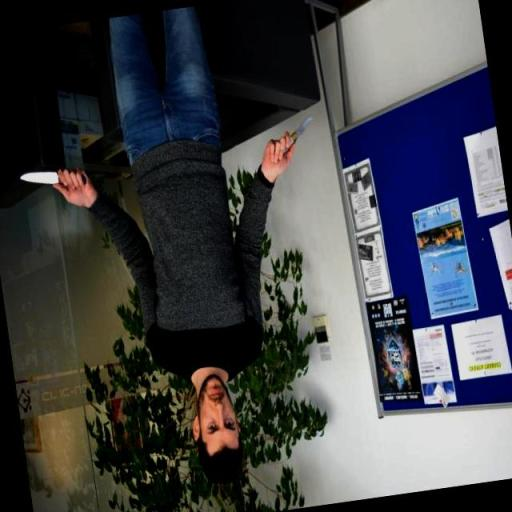knife: (15, 159, 89, 197), (274, 111, 322, 159)
